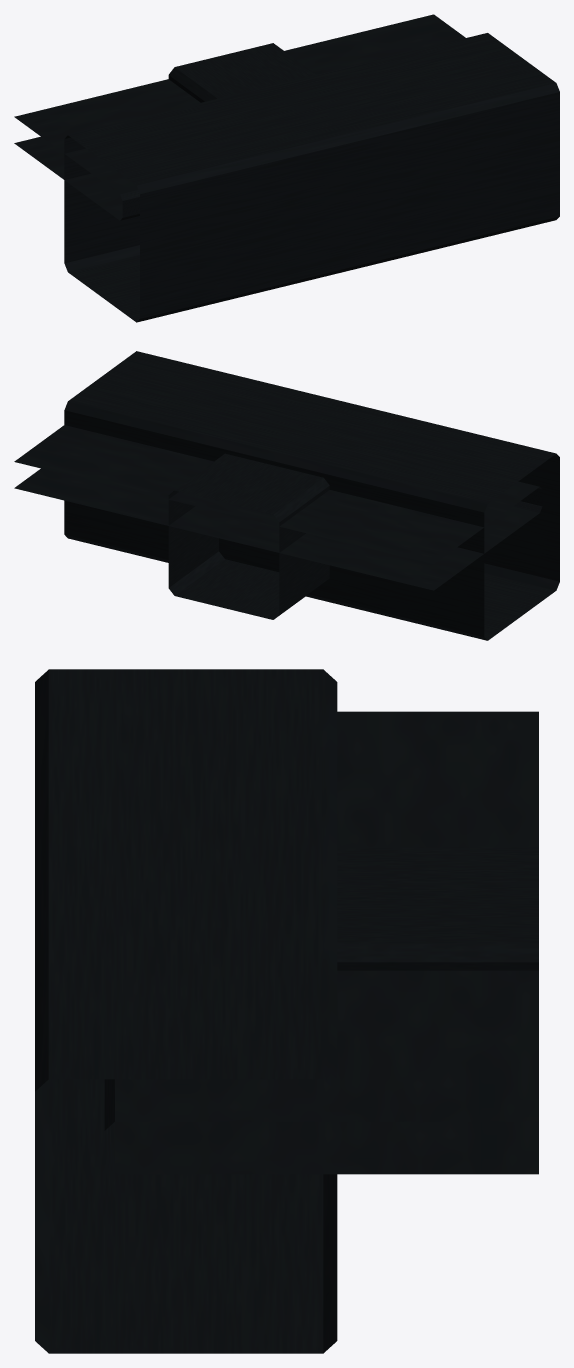
Rendered from cell_17.obj.
3 views of the same model, one above another, from view 1: azimuth 30°, elevation 25°; view 2: azimuth 150°, elevation 25°; view 3: azimuth 270°, elevation 25° (orthographic). The views are drawn at different scales.
Parts seen in each view (by area): view 1: cell_17; view 2: cell_17; view 3: cell_17.
Part boxes in pixels (box(x1,y1,x2,y2)): cell_17: box(14, 14, 559, 322); cell_17: box(14, 351, 559, 640); cell_17: box(35, 669, 538, 1353).
Size of the model in its own units: 1 by 0.312 by 0.52.
